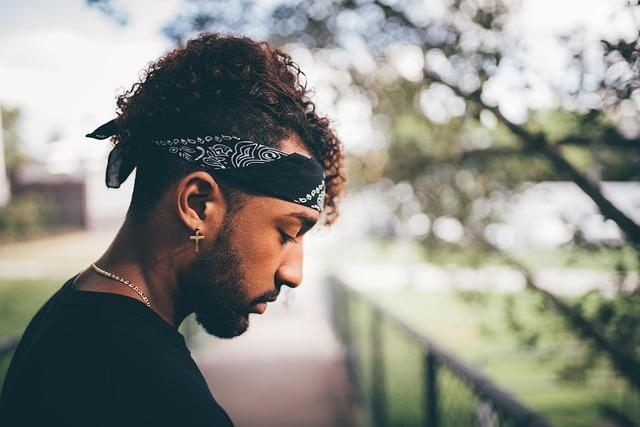Non_Gorille: (40, 0, 346, 427)
